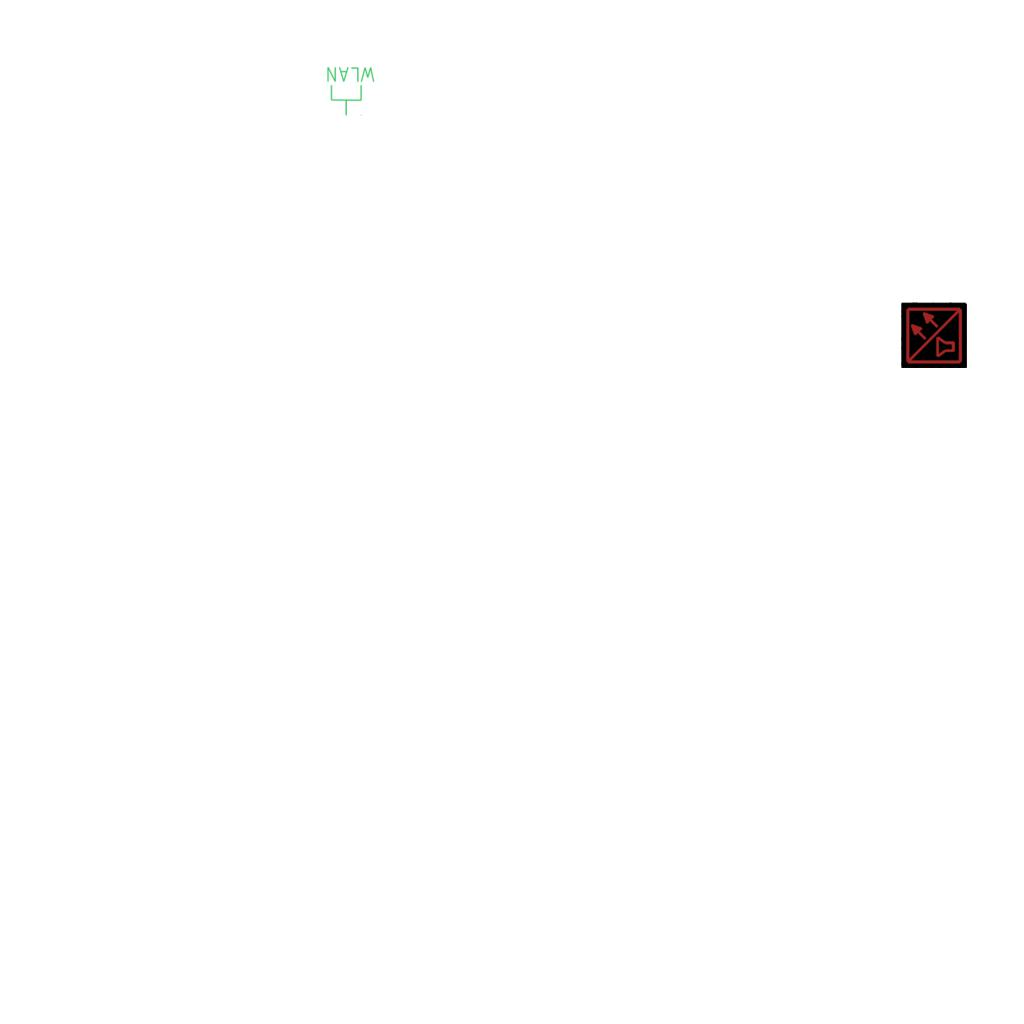OKW_Multisensormelder_(Kombination_optischer_Rauch-Kahlenmonoxid_Waerme-Melder): (901, 302, 967, 368)
WLAN: (325, 65, 377, 117)
